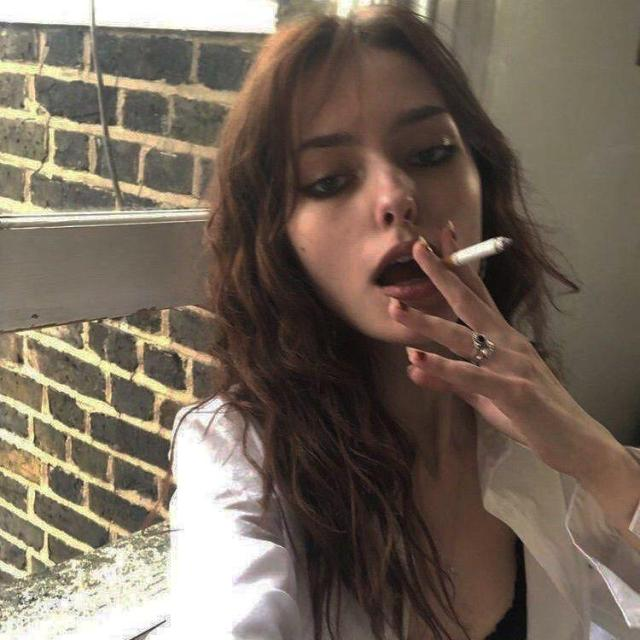cigarette: (433, 226, 518, 270)
